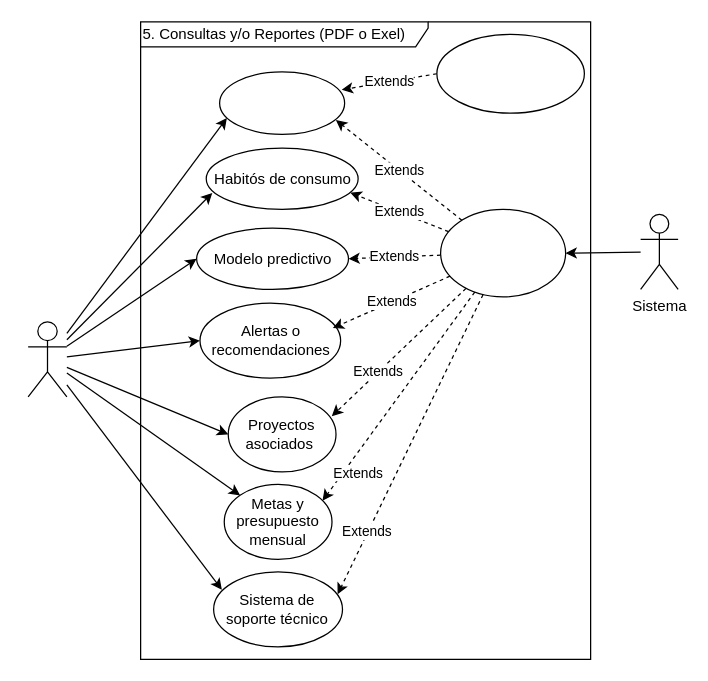
This 708x681 diagram has some shape labels left out. The shapes that lost their labels are listed below. From the top down, each one's centre as x and y in pixels, then its label:
the point at 510,73: En tiempo real, anual, mensual, semanal, diario.
the point at 281,102: Graficos personalizados
the point at 502,252: Generación de reportes u Consultas
the point at 47,359: Usuario
